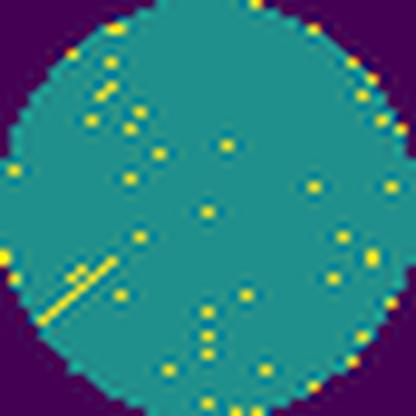Scratch: (37, 252, 121, 329)
